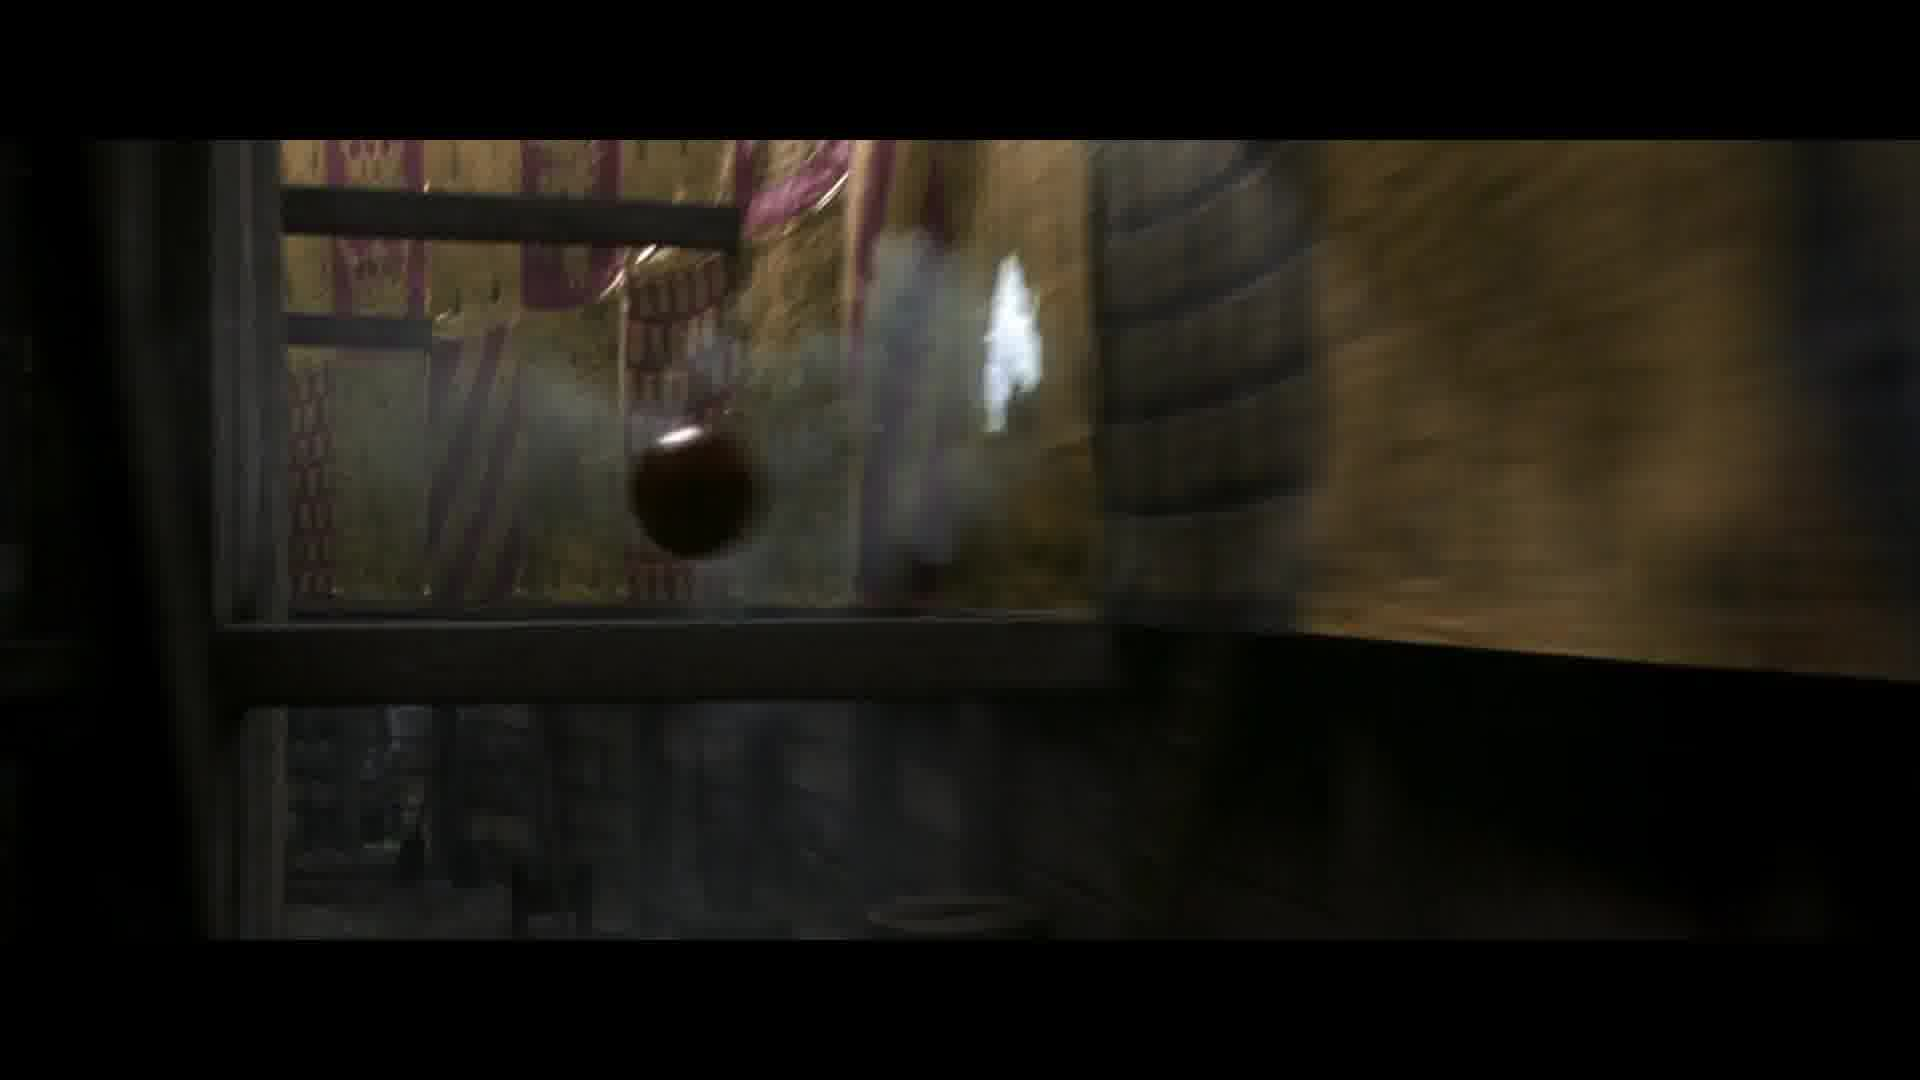bludger: (632, 423, 766, 562)
